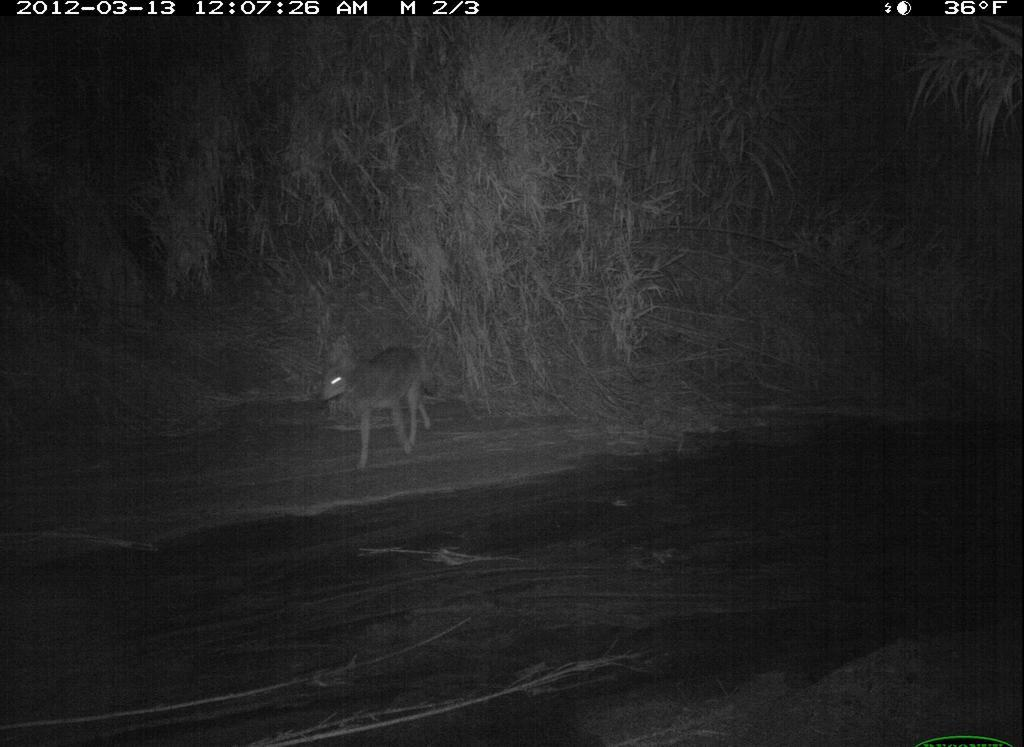coyote: (313, 333, 447, 474)
